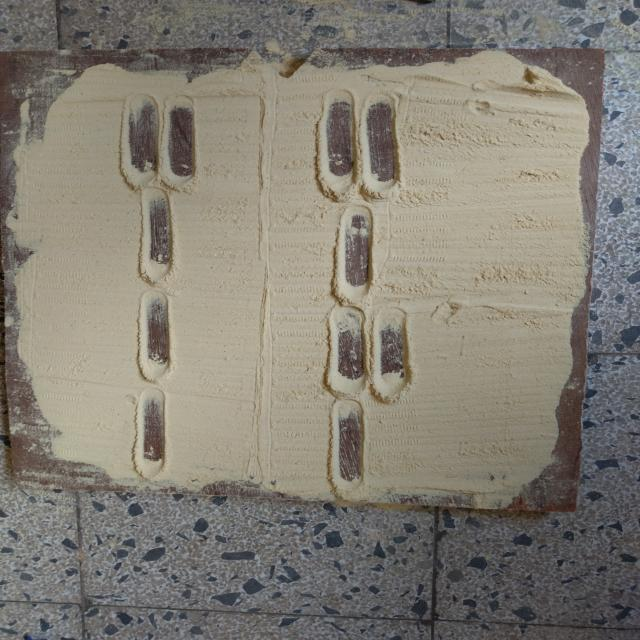double: (309, 84, 407, 203), (322, 302, 416, 403), (116, 90, 201, 192)
single: (321, 395, 374, 505), (126, 183, 183, 285), (330, 196, 383, 305), (130, 284, 179, 385), (130, 382, 174, 486)
